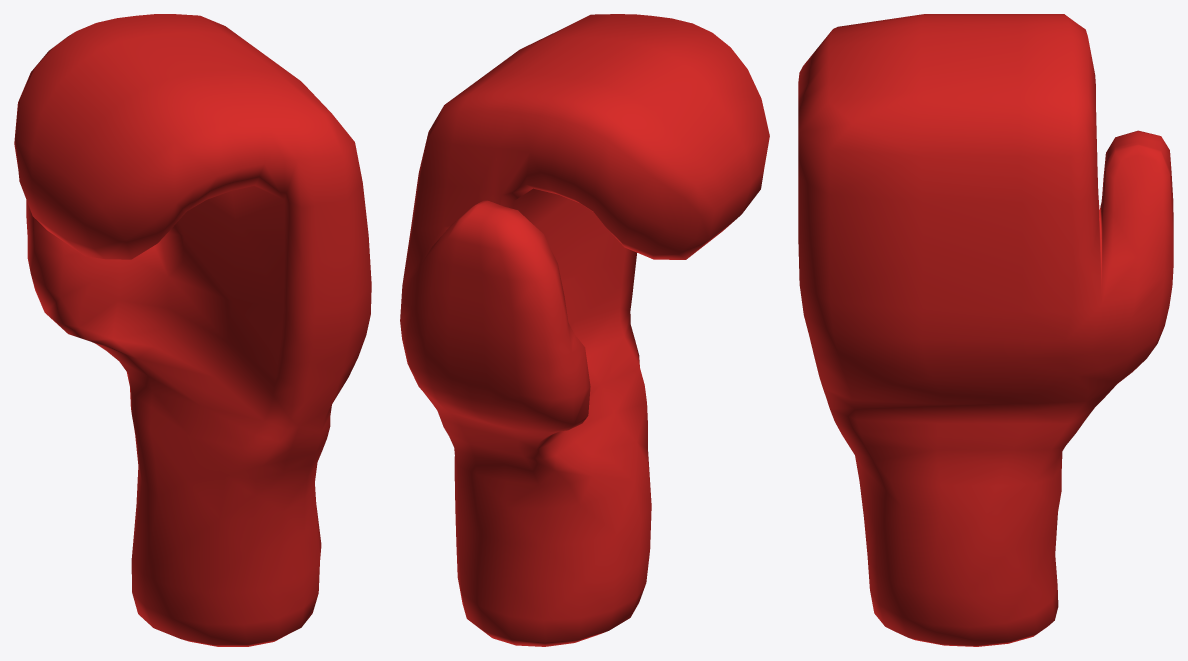
File: bxglvsp(left).fbx
The picture shows the model from 3 angles, left to right: view 1: azimuth 30°, elevation 25°; view 2: azimuth 150°, elevation 25°; view 3: azimuth 270°, elevation 25°; orthographic projection. The views are drawn at different scales.
Visible parts, largest first — view 1: Cube; view 2: Cube; view 3: Cube.
Part boxes in pixels (x1,y1,x2,y2): Cube: [14, 14, 371, 646]; Cube: [400, 14, 769, 646]; Cube: [798, 14, 1173, 646].
Size of the model in its own units: 4.36 by 8.65 by 5.27.
